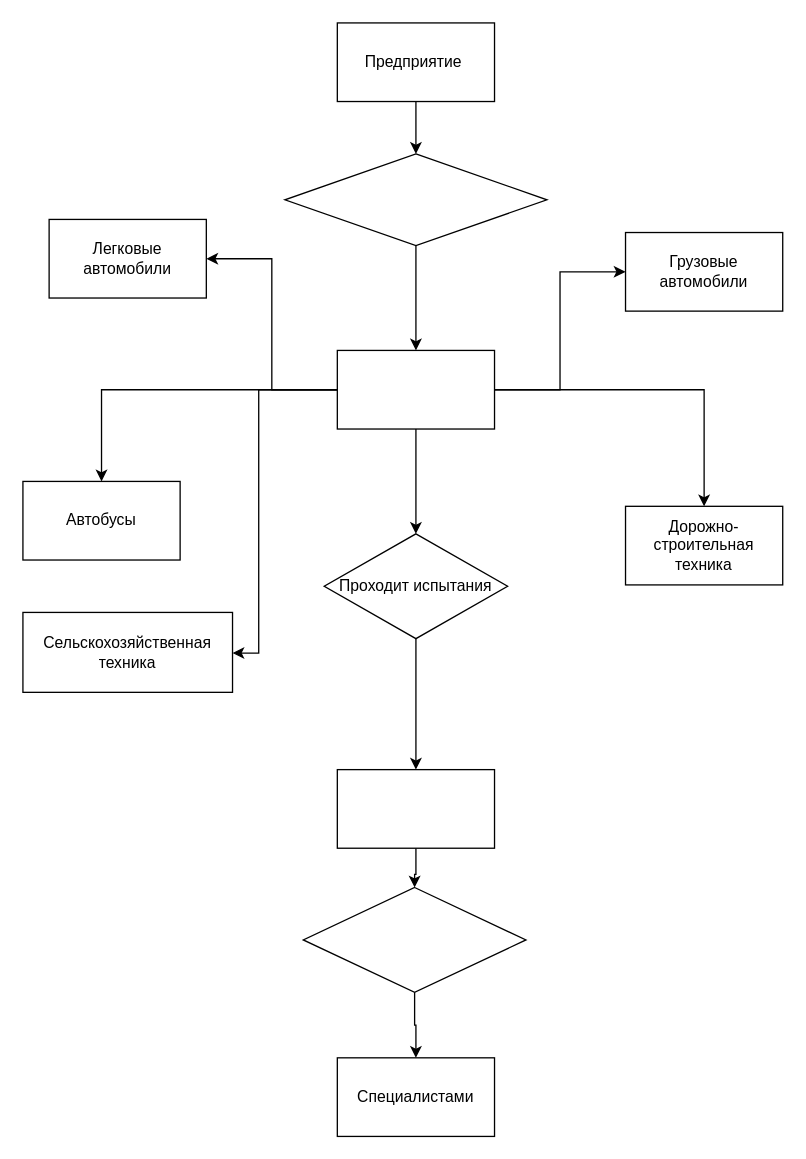
The diagram is 806 pixels wide and 1159 high, and some of its shapes have lost their labels. Here are the shapes that lost their labels. From the top down, the centre of each, then its label:
At (415,199): "Выпускает".
At (415,389): "Изделие".
At (415,808): "Испытательные лаборатории".
At (414,939): "Проводятся".
